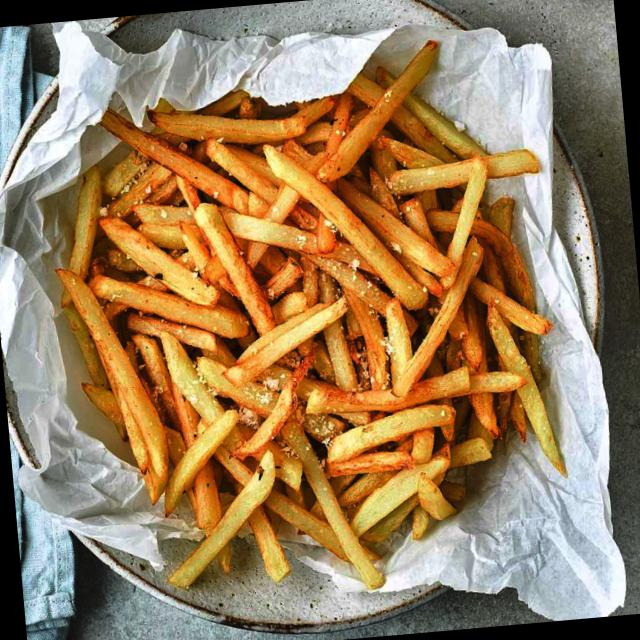french fries: (41, 33, 574, 614)
